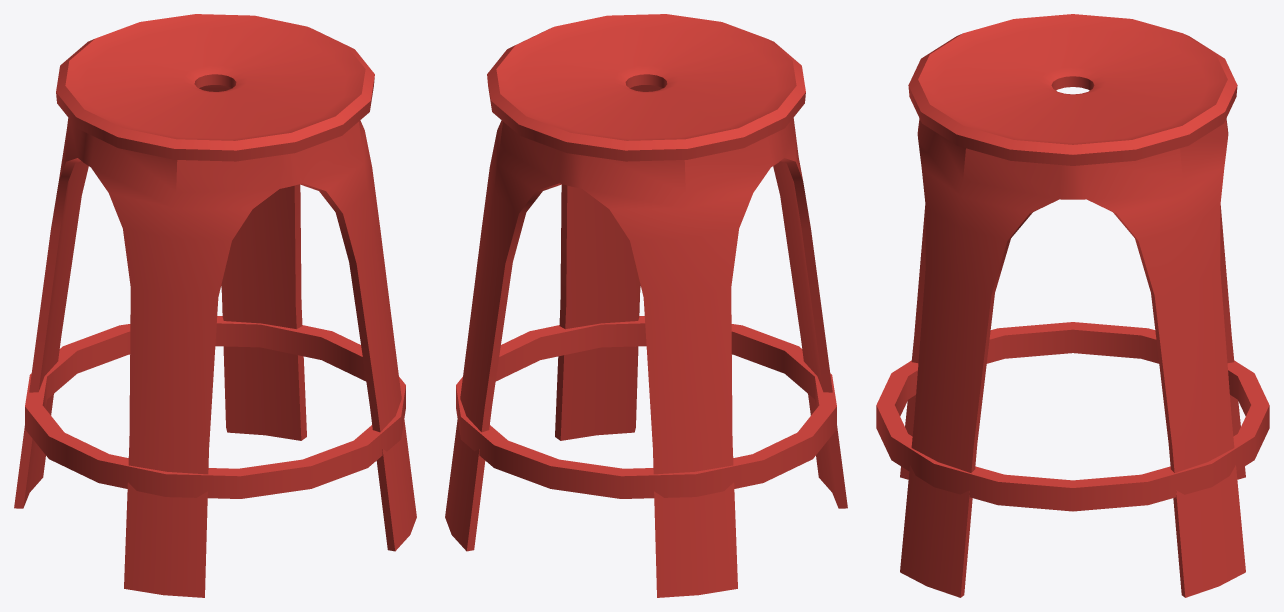
The model's file is SC_Ter_Stool_Plastic_Red.gltf.
The picture shows the model from 3 angles, left to right: view 1: azimuth 30°, elevation 25°; view 2: azimuth 150°, elevation 25°; view 3: azimuth 270°, elevation 25°; orthographic projection. The views are drawn at different scales.
Parts seen in each view (by area): view 1: SC_Ter_Stool_Plastic_Red; view 2: SC_Ter_Stool_Plastic_Red; view 3: SC_Ter_Stool_Plastic_Red.
Boxes of the visible parts, box(x1,y1,x2,y2) form: SC_Ter_Stool_Plastic_Red: box(14, 14, 416, 597); SC_Ter_Stool_Plastic_Red: box(445, 14, 847, 597); SC_Ter_Stool_Plastic_Red: box(876, 14, 1269, 597).
Bounding box in the file's own units: 0.3655 × 0.458 × 0.3655.
1 material, 1 textured.
